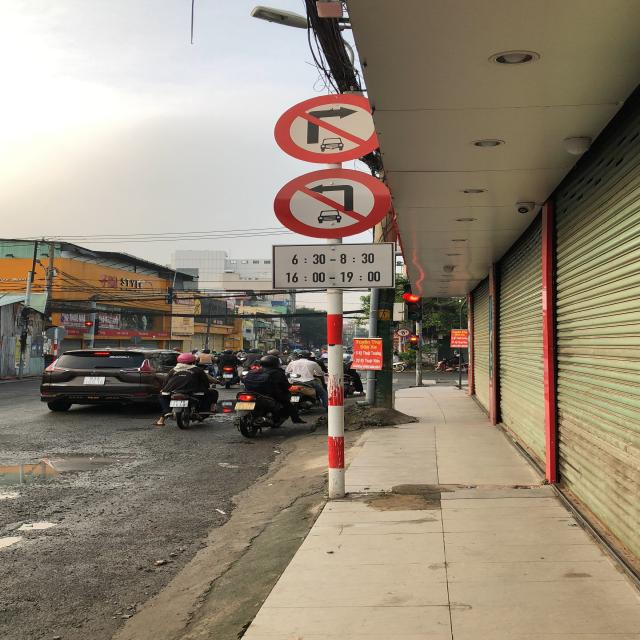Bien bao cam xe o to re phai: (265, 90, 385, 162)
Bien bao cam xe o to re trai: (269, 164, 399, 239)
